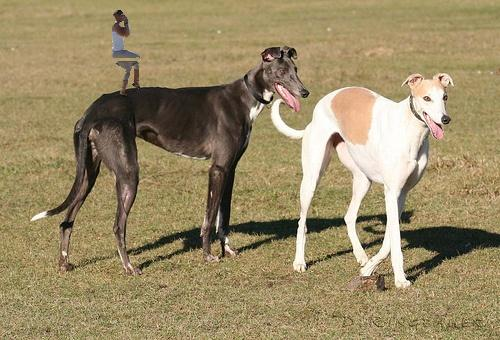tampered: (113, 11, 140, 97)
